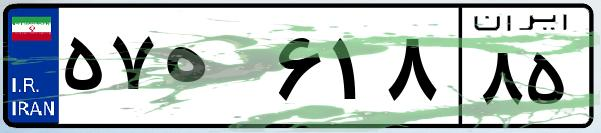1: (330, 28, 385, 110)
5: (57, 26, 110, 100), (525, 38, 570, 115)
6: (270, 28, 330, 110)
7: (110, 28, 158, 98)
8: (385, 28, 445, 110), (475, 38, 525, 113)
ه: (158, 20, 270, 120)
